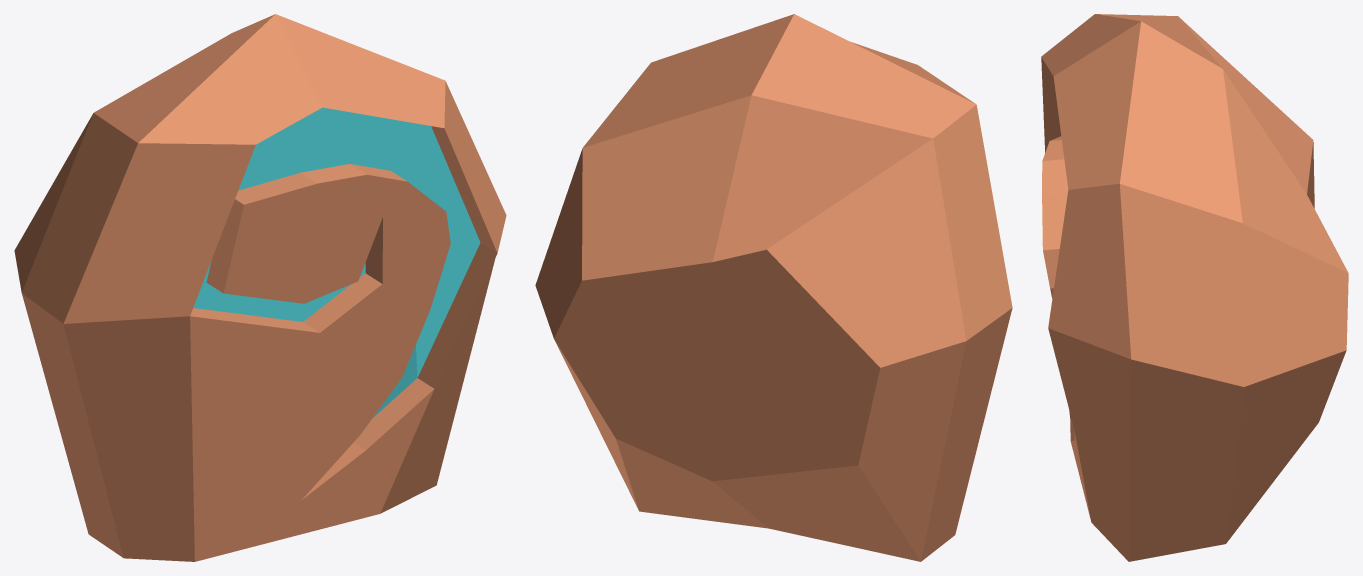
Rendered from Stone011.fbx.
3 views of the same model, side by side, from view 1: azimuth 30°, elevation 25°; view 2: azimuth 150°, elevation 25°; view 3: azimuth 270°, elevation 25° (orthographic). The views are drawn at different scales.
Visible parts, largest first — view 1: Stone011; view 2: Stone011; view 3: Stone011.
Part boxes in pixels (x1,y1,x2,y2): Stone011: (14, 14, 506, 561); Stone011: (535, 14, 1012, 561); Stone011: (1041, 14, 1348, 561).
Bounding box in the file's own units: 1.89 × 2.06 × 1.22.
